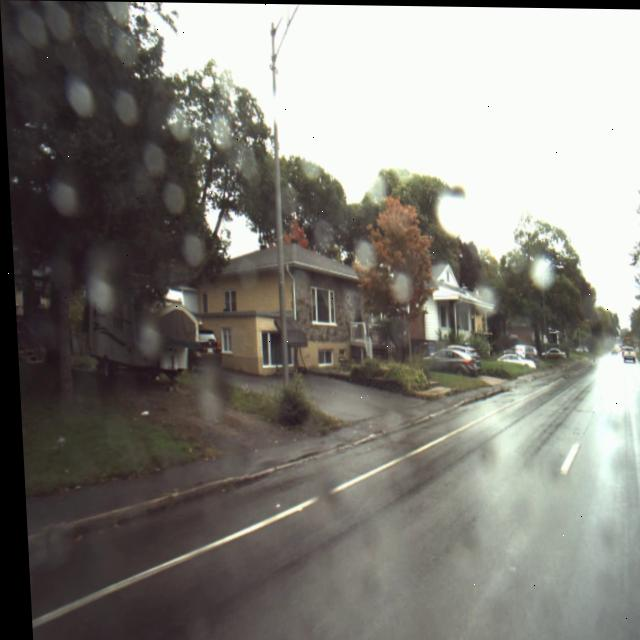car: (419, 348, 473, 376), (185, 329, 220, 371), (493, 352, 532, 370), (537, 346, 562, 359), (617, 344, 635, 362)
